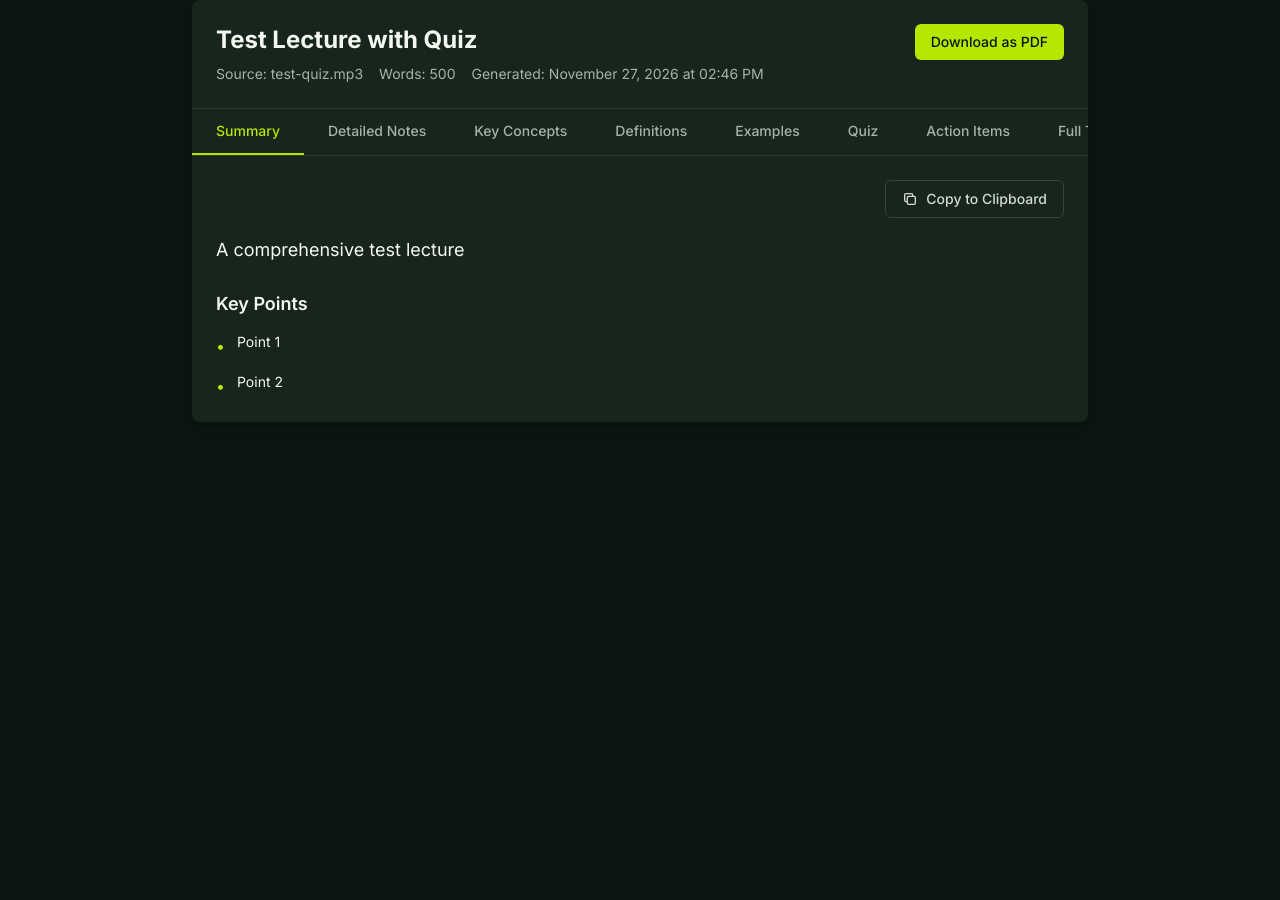
Test case: Quiz Feature › Quiz Questions Display › should number questions correctly
What coordinates should you click on to do the following:
click the button "Quiz"
I would click on:
 (863, 132)
Its box is [824, 109, 902, 155].
(page scrolled)
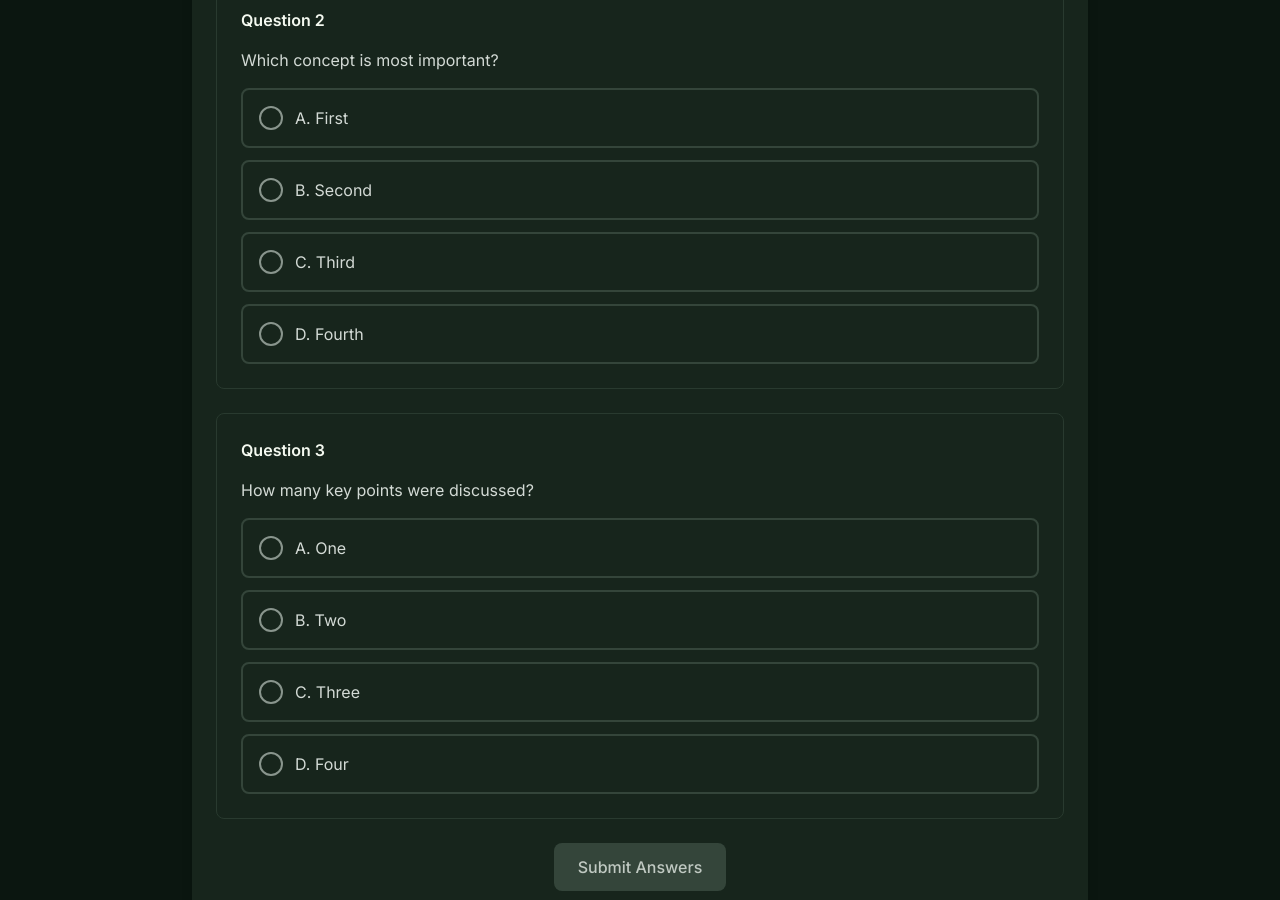
expect the heading "Question 2" is shown: met, box [241, 10, 325, 30]
expect the heading "Question 3" is shown: met, box [241, 440, 325, 460]
